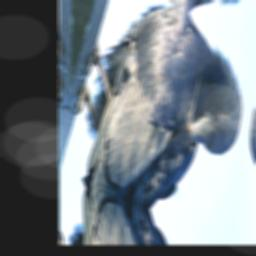Crow: (59, 0, 252, 242)
